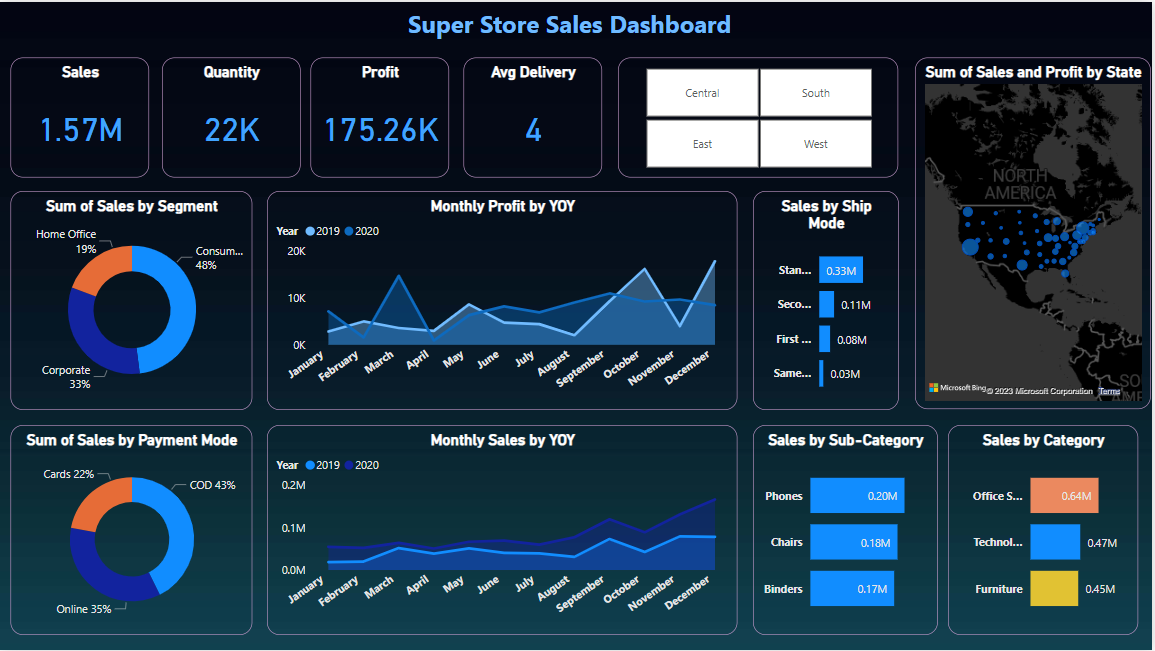

What the dashboard file says about the page in this screenshot:
{"tool":"powerbi","page":{"name":"Page 1","canvas":[1280,720],"ordinal":0},"visuals":[{"type":"clusteredBarChart","title":"Sales by Category","fields":{"Category":["SuperStore_Sales_Dataset.Category"],"Y":["Sum(SuperStore_Sales_Dataset.Sales)"]},"box":[1053.8,470.5,211.4,233.6],"z":0},{"type":"clusteredBarChart","title":"Sales by Sub-Category","fields":{"Y":["Sum(SuperStore_Sales_Dataset.Sales)"],"Category":["SuperStore_Sales_Dataset.Sub-Category"]},"box":[836,470.5,205,233.6],"z":1000},{"type":"clusteredBarChart","title":"Sales by Ship Mode","fields":{"Y":["Sum(SuperStore_Sales_Dataset.Sales)"],"Category":["SuperStore_Sales_Dataset.Ship Mode"]},"box":[836,209.8,162.1,243.2],"z":2000},{"type":"areaChart","title":"Monthly Sales by YOY","fields":{"Y":["Sum(SuperStore_Sales_Dataset.Sales)"],"Category":["SuperStore_Sales_Dataset.Order Date.Variation.Date Hierarchy.Month","SuperStore_Sales_Dataset.Order Date.Variation.Date Hierarchy.Day"],"Series":["SuperStore_Sales_Dataset.Order Date.Variation.Date Hierarchy.Year"]},"box":[297.2,470.5,522.9,233.6],"z":3000},{"type":"areaChart","title":"Monthly Profit by YOY","fields":{"Category":["SuperStore_Sales_Dataset.Order Date.Variation.Date Hierarchy.Month","SuperStore_Sales_Dataset.Order Date.Variation.Date Hierarchy.Day"],"Series":["SuperStore_Sales_Dataset.Order Date.Variation.Date Hierarchy.Year"],"Y":["Sum(SuperStore_Sales_Dataset.Profit)"]},"box":[297.2,209.8,522.9,243.2],"z":4000},{"type":"map","title":"Sum of Sales and Profit by State","fields":{"Category":["SuperStore_Sales_Dataset.State"],"Size":["Sum(SuperStore_Sales_Dataset.Sales)"]},"box":[1017.2,62,262.3,391],"z":5000},{"type":"donutChart","fields":{"Category":["SuperStore_Sales_Dataset.Segment"],"Y":["Sum(SuperStore_Sales_Dataset.Sales)"]},"box":[11.1,209.8,268.6,243.2],"z":6000},{"type":"donutChart","fields":{"Y":["Sum(SuperStore_Sales_Dataset.Sales)"],"Category":["SuperStore_Sales_Dataset.Payment Mode"]},"box":[11.1,470.5,268.6,233.6],"z":7000},{"type":"slicer","fields":{"Values":["SuperStore_Sales_Dataset.Region"]},"box":[686.6,62,311.5,133.5],"z":8000},{"type":"textbox","box":[448.2,0,387.8,62],"z":9000},{"type":"card","title":"Sales","fields":{"Values":["Sum(SuperStore_Sales_Dataset.Sales)"]},"box":[11.1,62,154.2,133.5],"z":10000},{"type":"card","title":"Quantity","fields":{"Values":["Sum(SuperStore_Sales_Dataset.Quantity)"]},"box":[179.6,62,154.2,133.5],"z":11000},{"type":"card","title":"Profit","fields":{"Values":["Sum(SuperStore_Sales_Dataset.Profit)"]},"box":[344.9,62,154.2,133.5],"z":12000},{"type":"card","title":"Avg Delivery","fields":{"Values":["Avg(SuperStore_Sales_Dataset.AvgDelivery)"]},"box":[515,62,154.2,133.5],"z":13000}]}

Visuals, with their boxes in screenshot pixels (x1, y1, x2, y2), scaled from the page's 1280x720 canvas onto the 1155x651 screenshot:
"Sales by Category" clusteredBarChart: bbox(951, 425, 1142, 637)
"Sales by Sub-Category" clusteredBarChart: bbox(754, 425, 939, 637)
"Sales by Ship Mode" clusteredBarChart: bbox(754, 190, 901, 410)
"Monthly Sales by YOY" areaChart: bbox(268, 425, 740, 637)
"Monthly Profit by YOY" areaChart: bbox(268, 190, 740, 410)
"Sum of Sales and Profit by State" map: bbox(918, 56, 1154, 410)
donutChart - SuperStore_Sales_Dataset.Segment x Sum(SuperStore_Sales_Dataset.Sales): bbox(10, 190, 252, 410)
donutChart - Sum(SuperStore_Sales_Dataset.Sales) x SuperStore_Sales_Dataset.Payment Mode: bbox(10, 425, 252, 637)
slicer - SuperStore_Sales_Dataset.Region: bbox(620, 56, 901, 177)
textbox: bbox(404, 0, 754, 56)
"Sales" card: bbox(10, 56, 149, 177)
"Quantity" card: bbox(162, 56, 301, 177)
"Profit" card: bbox(311, 56, 450, 177)
"Avg Delivery" card: bbox(465, 56, 604, 177)
